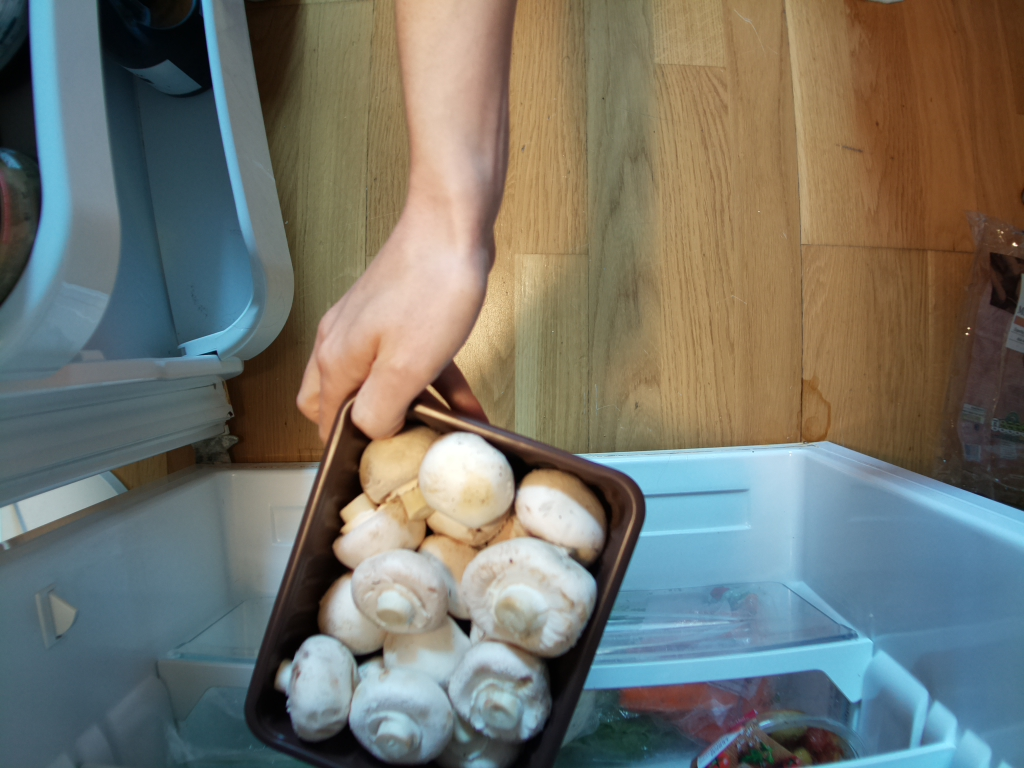mushrooms: (250, 390, 655, 768)
